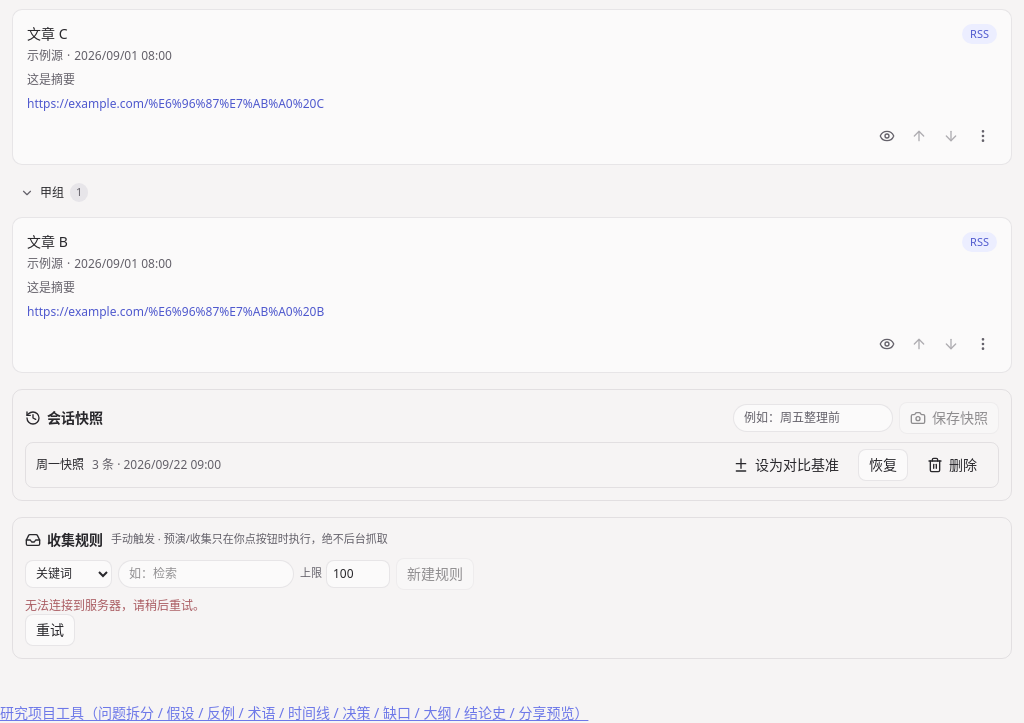
Test: N105 会话快照 › 恢复：模式选择 + diff 摘要诚实展示（缺失不复活）
(page scrolled)
Click the button "恢复" at (883, 464), box x1=858 y1=448 x2=908 y2=480
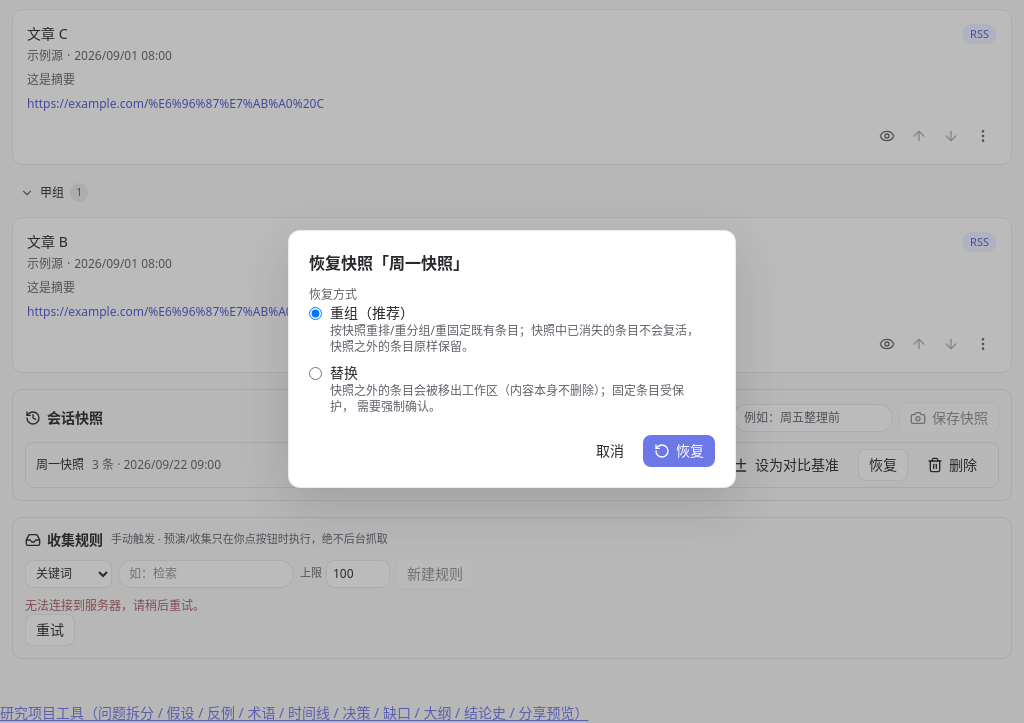
Click the radio button labelled "替换 快照之外的条目会被移出工作区（内容本身不删除）；固定条目受保护， 需要强制确认。" at (316, 374), box x1=309 y1=367 x2=322 y2=380
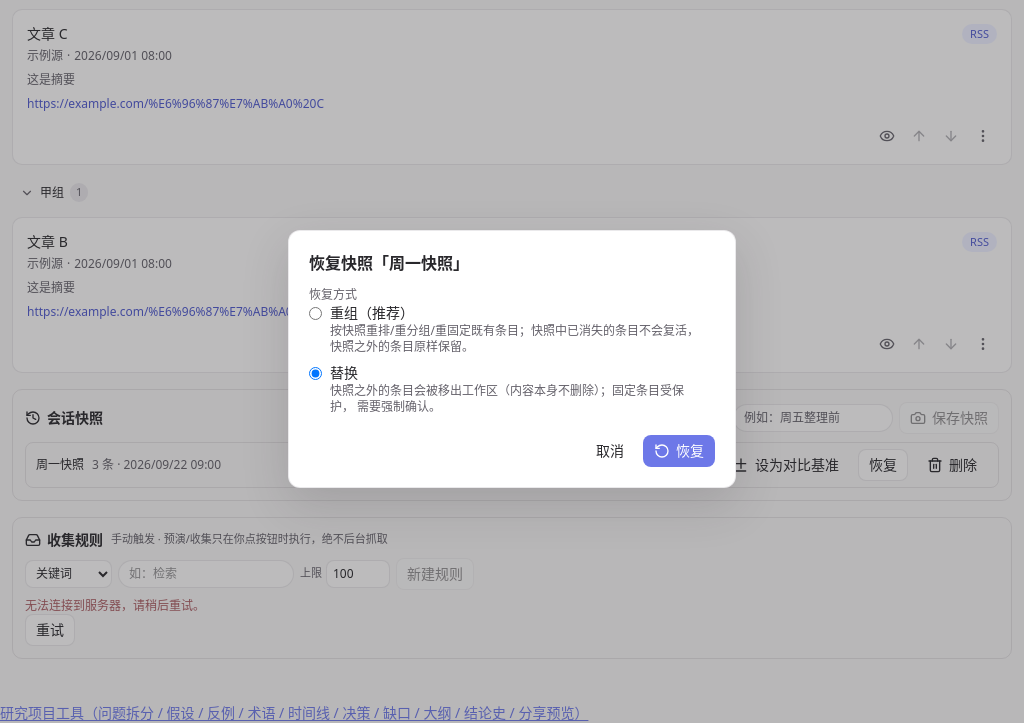
Click the button "恢复" at (679, 451), box x1=643 y1=435 x2=715 y2=467
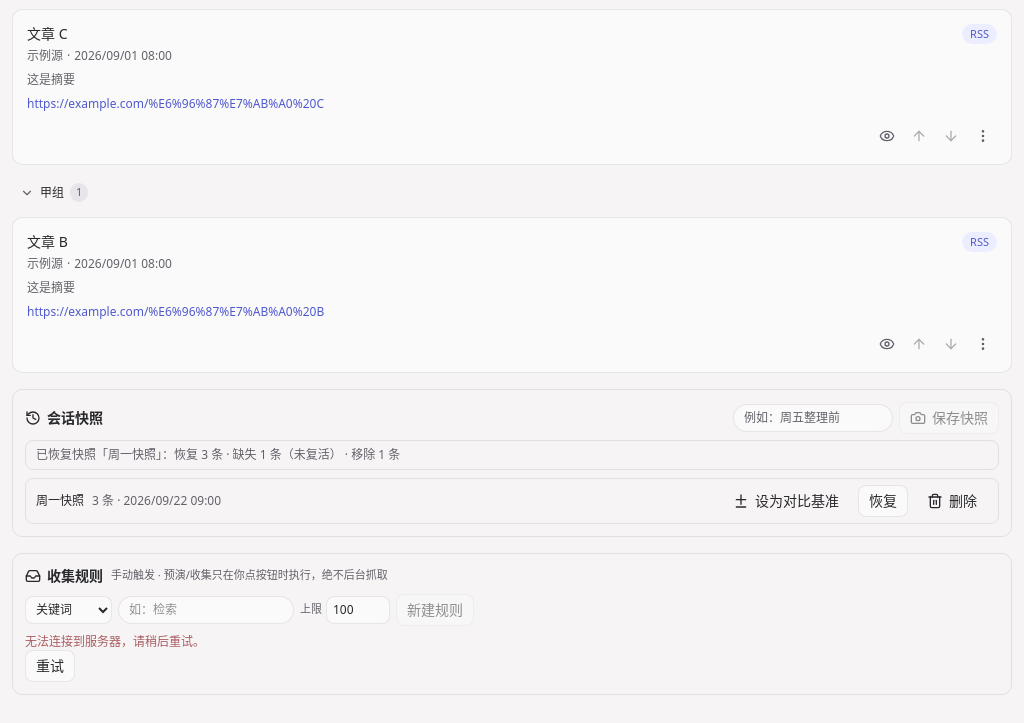
Now the message with test id "workspace-restore-result" shows "恢复 3 条", box x1=25 y1=440 x2=999 y2=470
Now the message with test id "workspace-restore-result" shows "缺失 1 条（未复活）", box x1=223 y1=446 x2=342 y2=462
Now the message with test id "workspace-restore-result" shows "移除 1 条", box x1=342 y1=446 x2=400 y2=462
